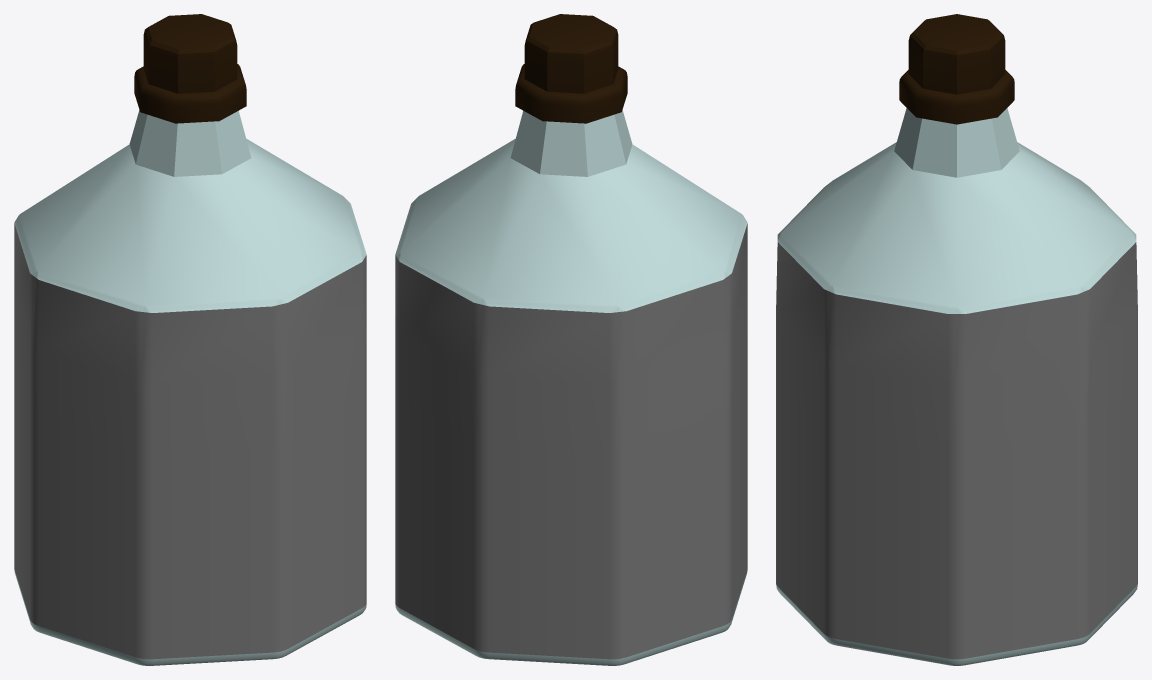
Rendered from Bottle.FBX.
3 renders of one model, left to right at view 1: azimuth 30°, elevation 25°; view 2: azimuth 150°, elevation 25°; view 3: azimuth 270°, elevation 25°, orthographic.
Parts seen in each view (by area): view 1: Label, Bottle, Lid; view 2: Label, Bottle, Lid; view 3: Label, Bottle, Lid.
Boxes of the visible parts, x1=… form: Label: x1=14, y1=223, x2=366, y2=659; Bottle: x1=14, y1=110, x2=366, y2=665; Lid: x1=134, y1=14, x2=246, y2=123; Label: x1=395, y1=223, x2=747, y2=659; Bottle: x1=395, y1=110, x2=747, y2=665; Lid: x1=515, y1=14, x2=627, y2=123; Label: x1=776, y1=242, x2=1137, y2=659; Bottle: x1=776, y1=108, x2=1137, y2=665; Lid: x1=899, y1=14, x2=1014, y2=124.
Bounding box in the file's own units: 17.98 × 30.72 × 17.98.
